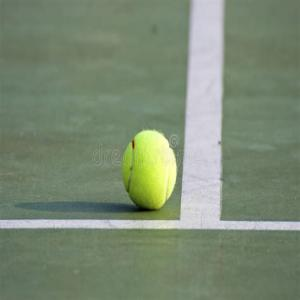Tennis: (121, 127, 178, 209)
